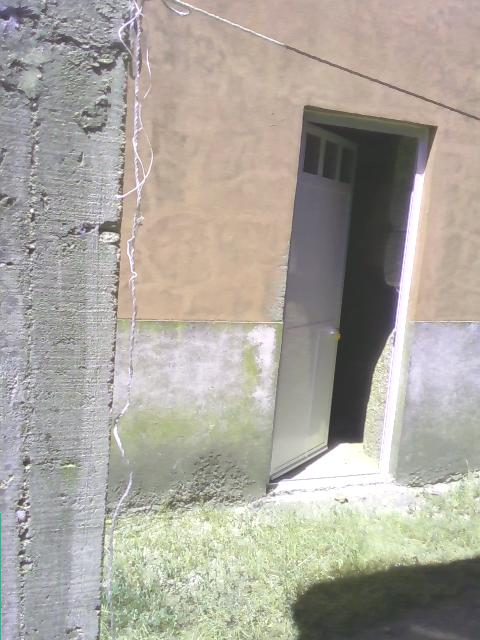semi_door: (270, 105, 432, 493)
